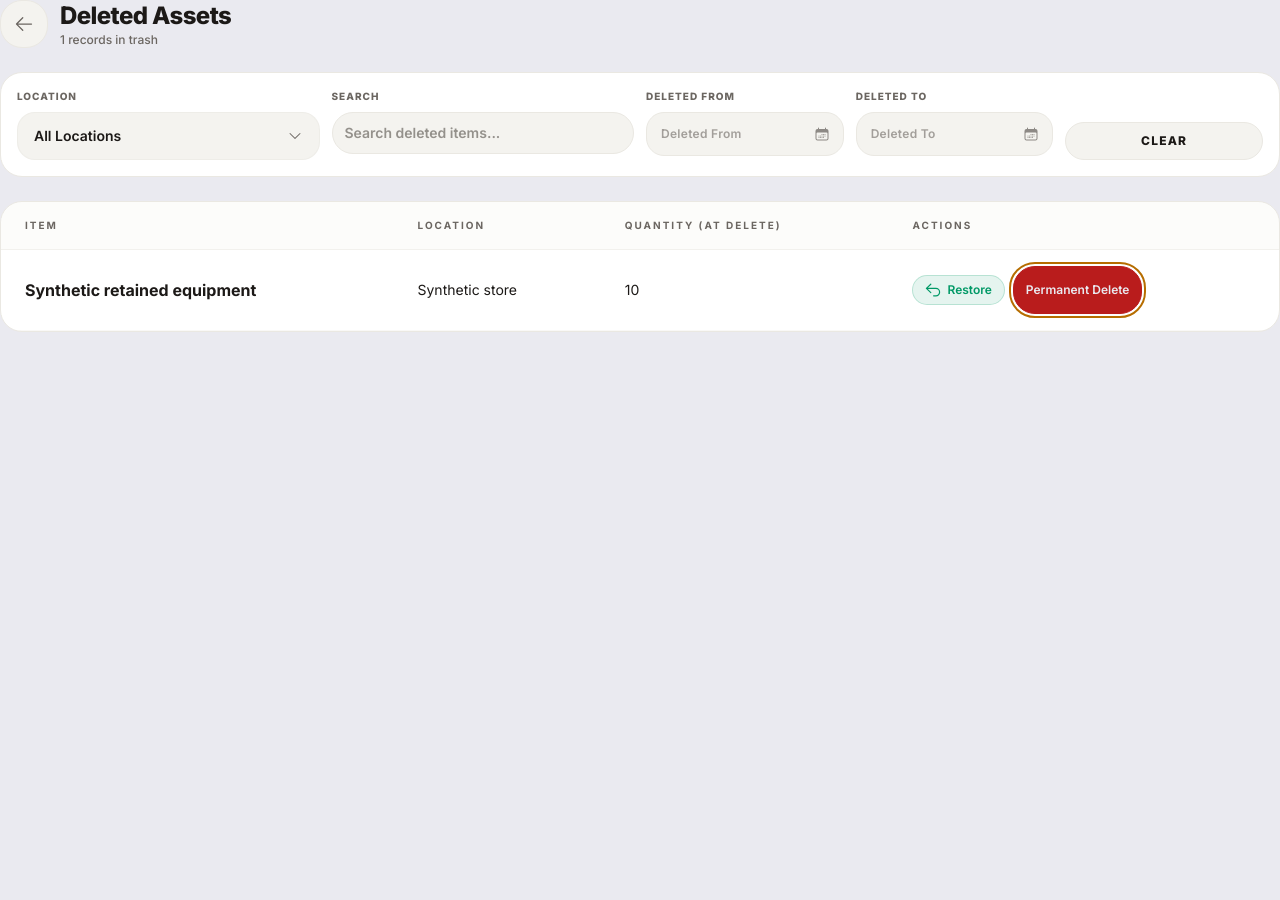
permanent asset deletion recovery › renders stable ITEM_DELETE_BUSY recovery without exposing raw server details
Click the button "Permanent Delete": click(1078, 290) [1013, 266, 1142, 314]
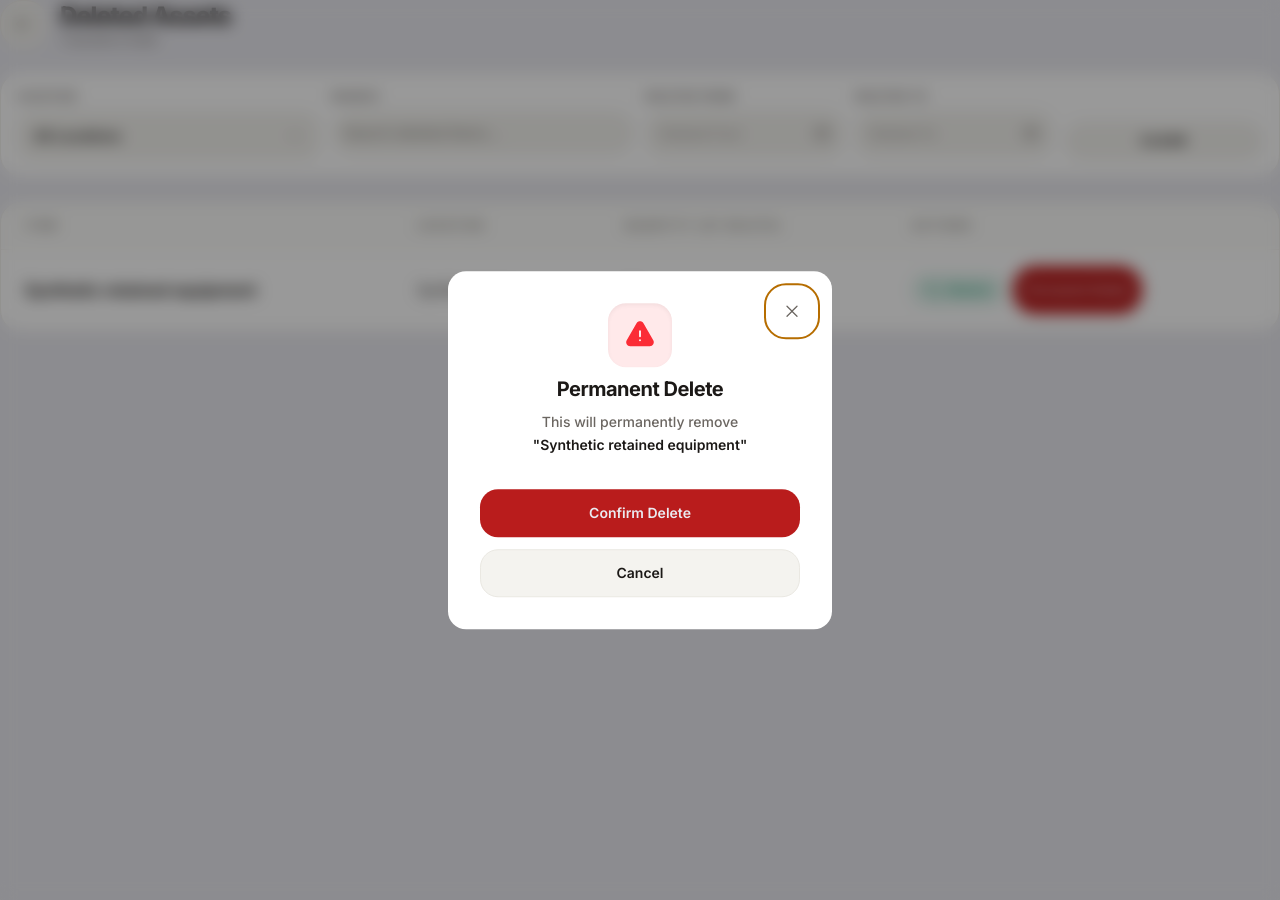
Click the button "Confirm Delete": click(640, 513) [480, 489, 800, 537]
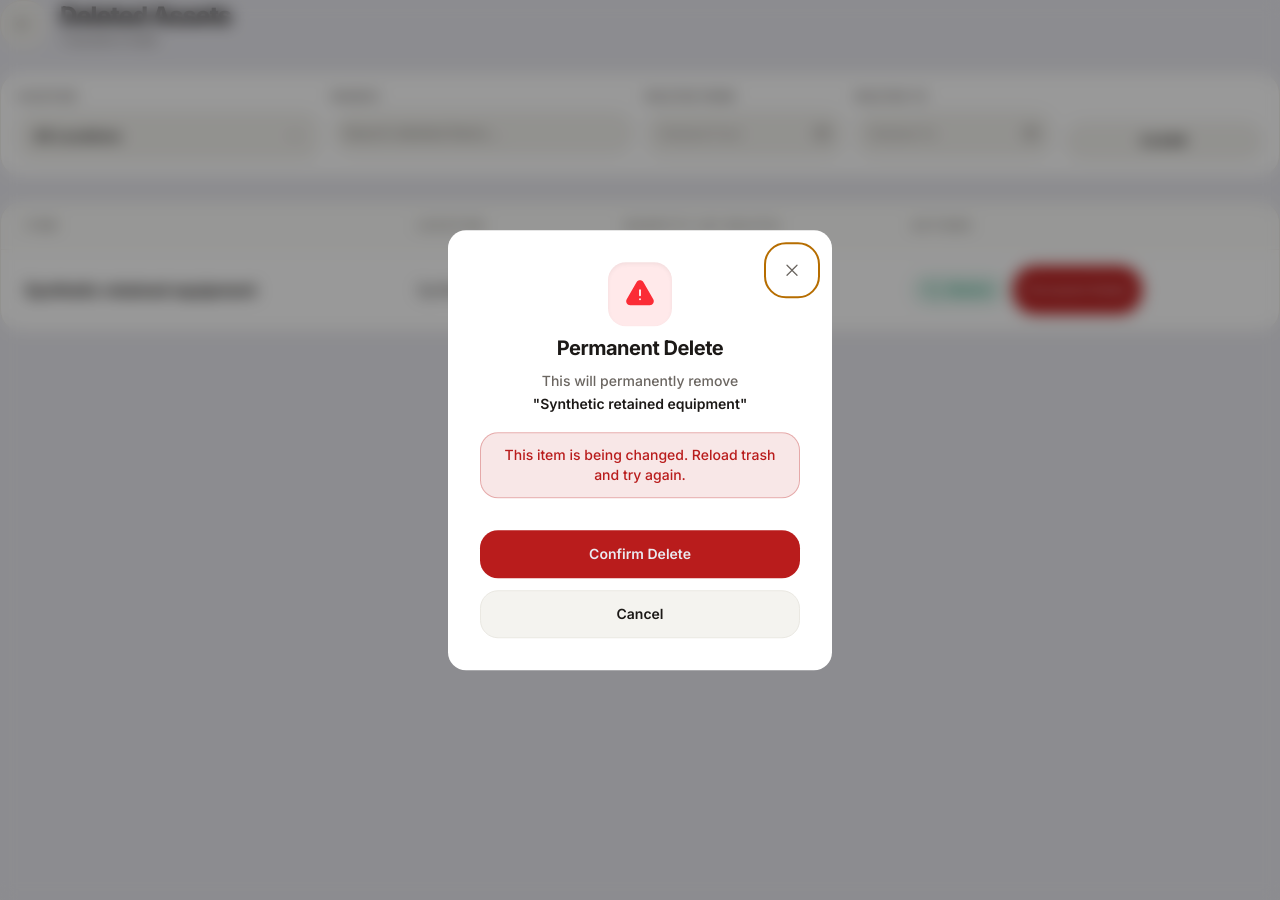
Expected: the message does not show "service internals", [480, 432, 800, 498]
Now the message shows "This item is being changed", box [505, 446, 775, 483]
